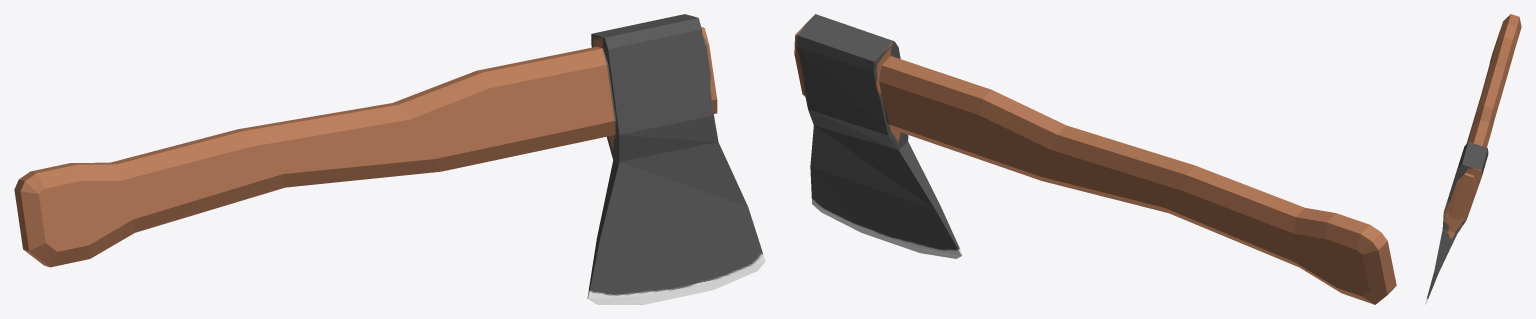
File: asd.glb
3 views of the same model, side by side, from view 1: azimuth 30°, elevation 25°; view 2: azimuth 150°, elevation 25°; view 3: azimuth 270°, elevation 25° (orthographic). The views are drawn at different scales.
Visible parts, largest first — view 1: node_id3; view 2: node_id3; view 3: node_id3.
Part boxes in pixels (x1,y1,x2,y2): node_id3: (14, 14, 765, 304); node_id3: (794, 14, 1396, 304); node_id3: (1425, 14, 1521, 304).
Size of the model in its own units: 0.5085 by 0.1793 by 0.1119.
1 material, 1 textured.
